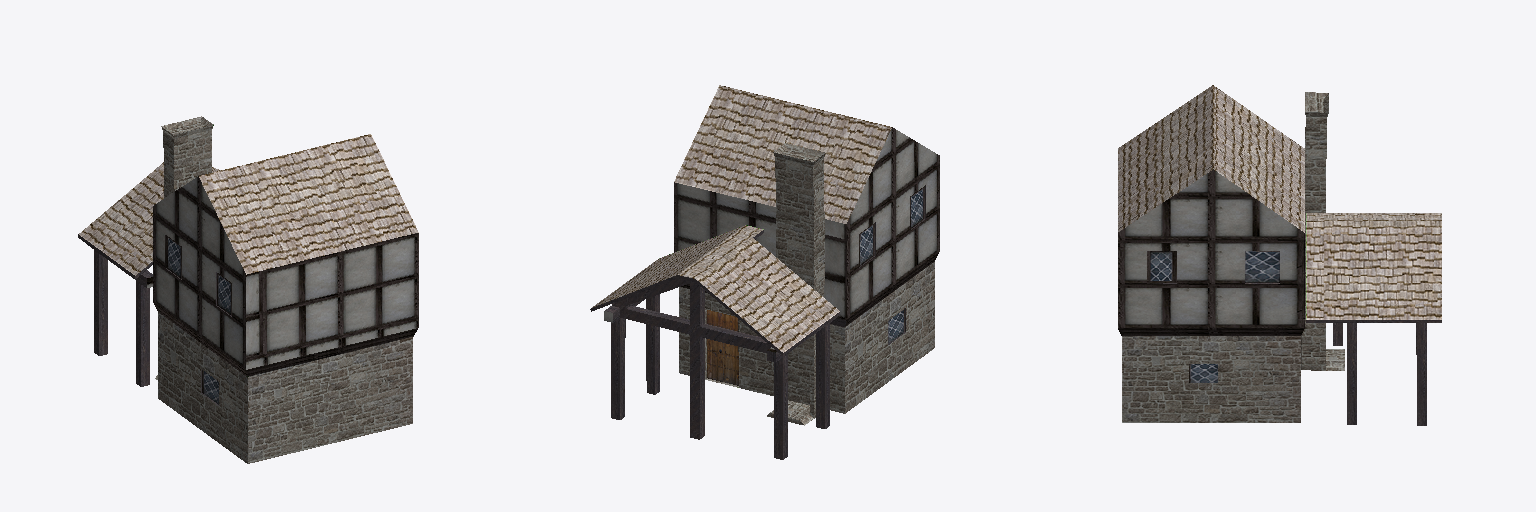
3 views of the same model, side by side, from view 1: azimuth 30°, elevation 25°; view 2: azimuth 150°, elevation 25°; view 3: azimuth 270°, elevation 25° (orthographic).
Parts seen in each view (by area): view 1: Main_House; view 2: Main_House; view 3: Main_House.
Boxes of the visible parts, <box> form: Main_House: <box>78,116,418,463</box>; Main_House: <box>590,85,939,459</box>; Main_House: <box>1118,85,1441,425</box>.
Bounding box in the file's own units: 105 × 134 × 152.
1 materials, 1 textured.